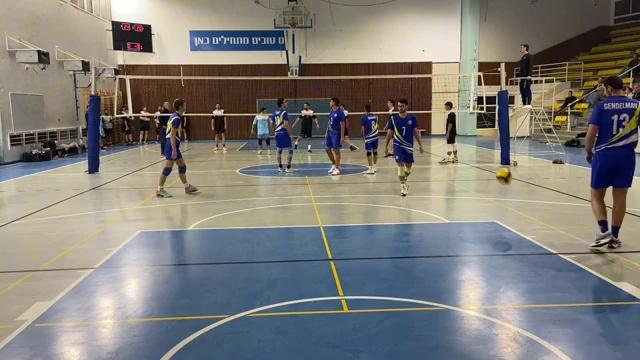ball: (492, 167, 513, 186)
